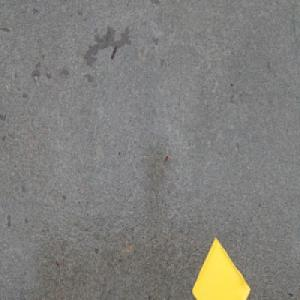PlasticPart: (191, 234, 251, 300)
